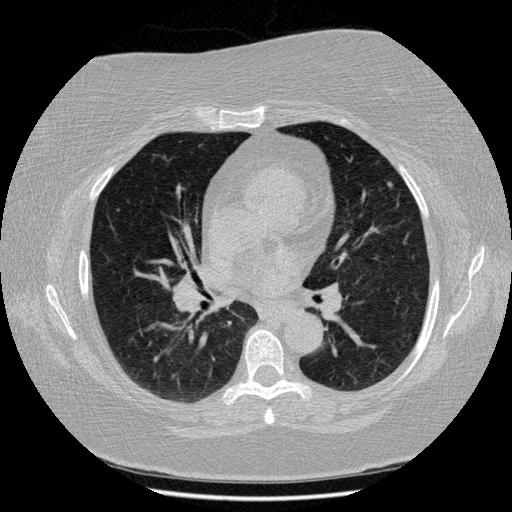nodule: (384, 179, 395, 190)
